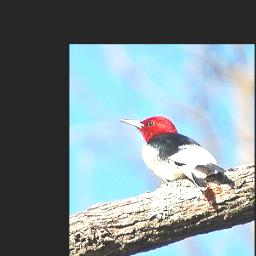Woodpecker: (116, 115, 227, 192)
